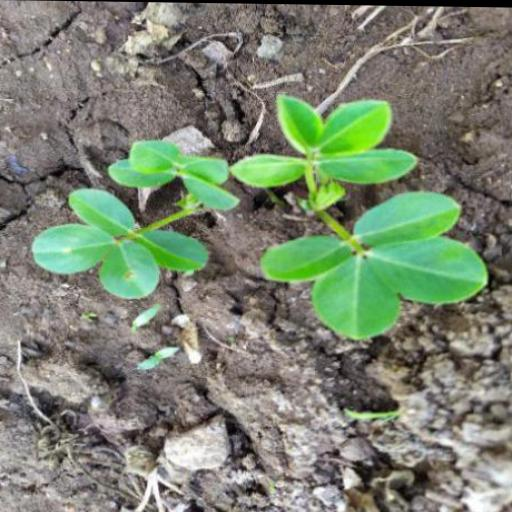weed: (27, 87, 474, 356)
